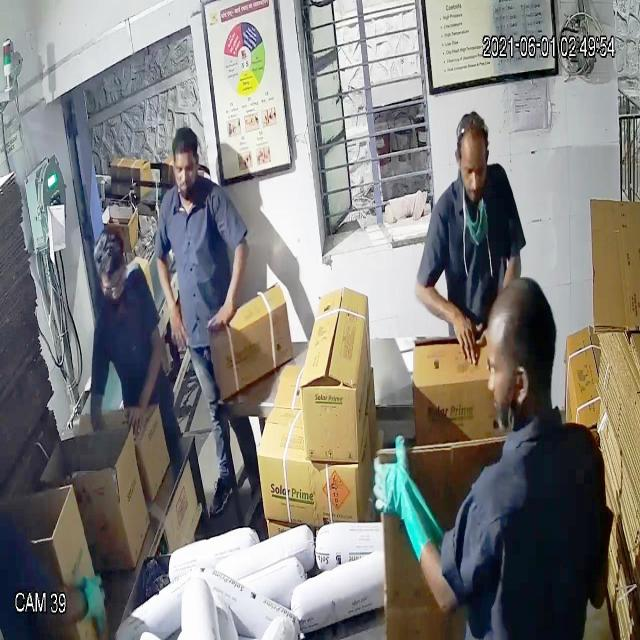glasses: (98, 273, 134, 309)
no-glass: (478, 346, 534, 398), (450, 146, 496, 191), (165, 150, 203, 184)
